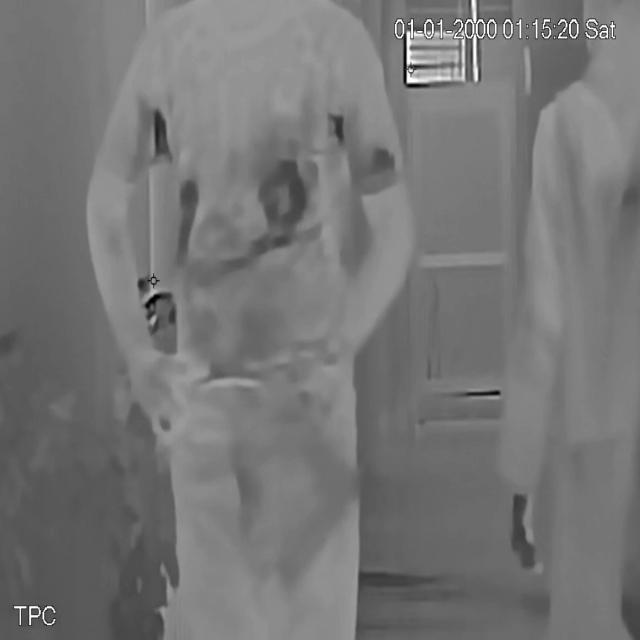Weapon: (281, 423, 374, 595)
